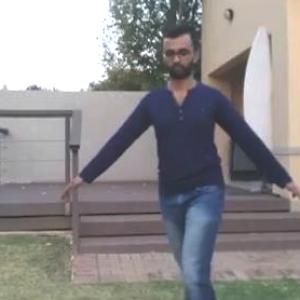land: (79, 30, 299, 299)
